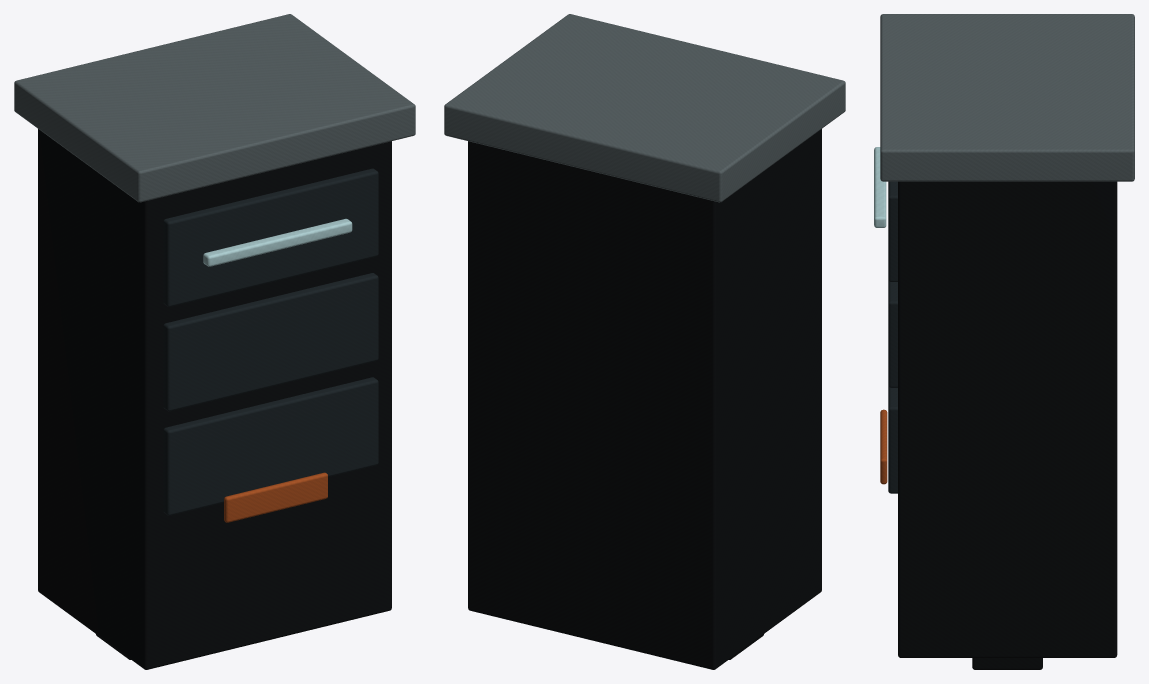
Rendered from RollingToolCabinet.fbx.
The picture shows the model from 3 angles, left to right: view 1: azimuth 30°, elevation 25°; view 2: azimuth 150°, elevation 25°; view 3: azimuth 270°, elevation 25°; orthographic projection.
Visible parts, largest first — view 1: RollingToolCabinet_Mesh; view 2: RollingToolCabinet_Mesh; view 3: RollingToolCabinet_Mesh.
Boxes of the visible parts, box(x1,y1,x2,y2) form: RollingToolCabinet_Mesh: box(14, 14, 415, 669); RollingToolCabinet_Mesh: box(444, 14, 845, 669); RollingToolCabinet_Mesh: box(874, 14, 1134, 669).
Bounding box in the file's own units: 92 × 168 × 73.75.
